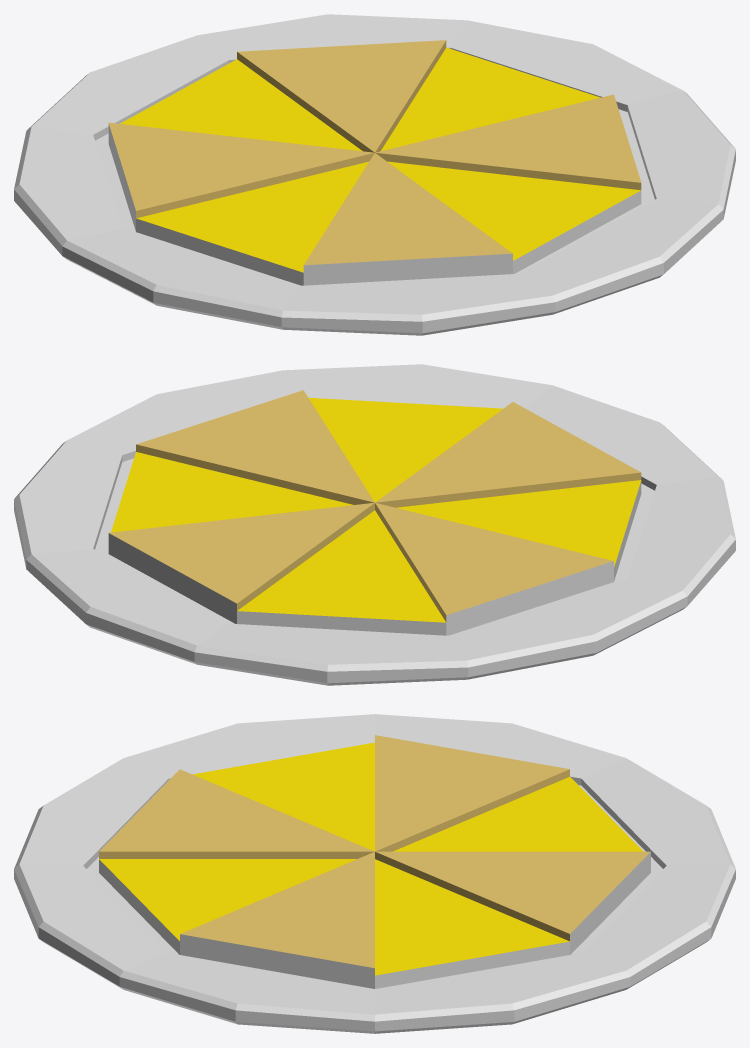
Rendered from Coin03.fbx.
3 views of the same model, one above another, from view 1: azimuth 30°, elevation 25°; view 2: azimuth 150°, elevation 25°; view 3: azimuth 270°, elevation 25° (orthographic).
Visible parts, largest first — view 1: Coin; view 2: Coin; view 3: Coin.
Part boxes in pixels (bbox=[...]): Coin: bbox=[14, 14, 735, 335]; Coin: bbox=[14, 364, 735, 685]; Coin: bbox=[14, 714, 735, 1033].
Bounding box in the file's own units: 98.57 × 6.74 × 98.57.
